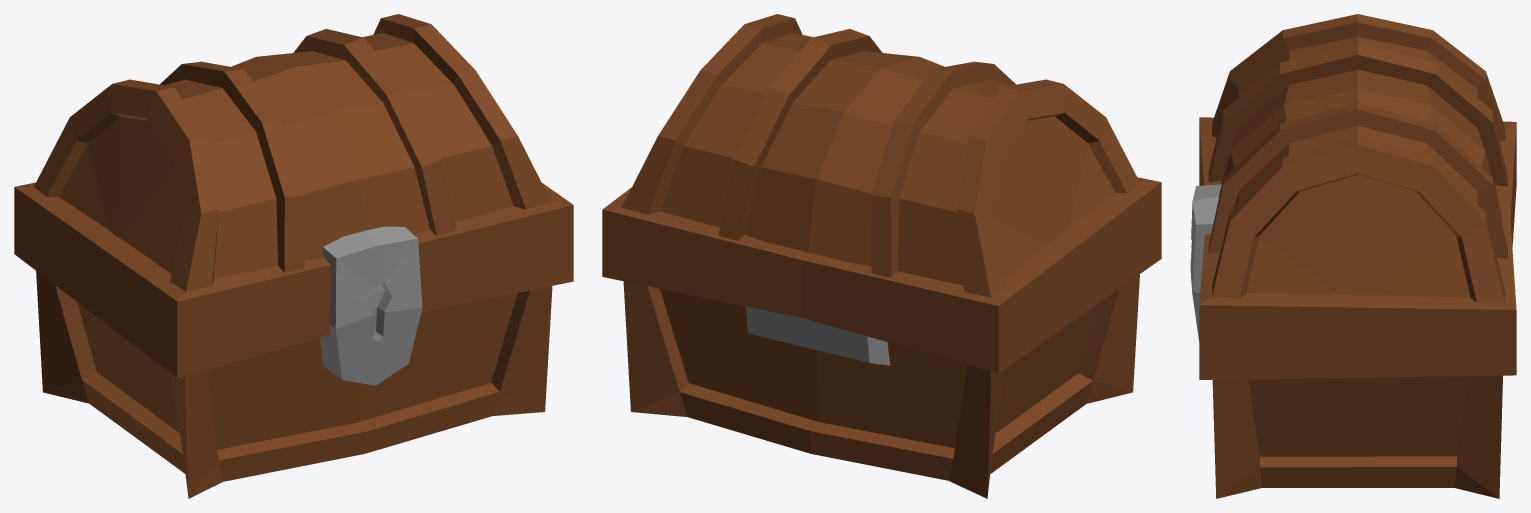
File: chest.FBX
The picture shows the model from 3 angles, left to right: view 1: azimuth 30°, elevation 25°; view 2: azimuth 150°, elevation 25°; view 3: azimuth 270°, elevation 25°; orthographic projection. The views are drawn at different scales.
Visible parts, largest first — view 1: top, bottom; view 2: top, bottom; view 3: top, bottom.
Part boxes in pixels (left/top/right/bottom): top: left=14, top=14, right=573, bottom=385; bottom: left=36, top=271, right=552, bottom=498; top: left=602, top=14, right=1161, bottom=373; bottom: left=623, top=274, right=1139, bottom=498; top: left=1190, top=14, right=1516, bottom=379; bottom: left=1212, top=375, right=1502, bottom=498.
Size of the model in its own units: 95.39 by 79.99 by 69.89.
